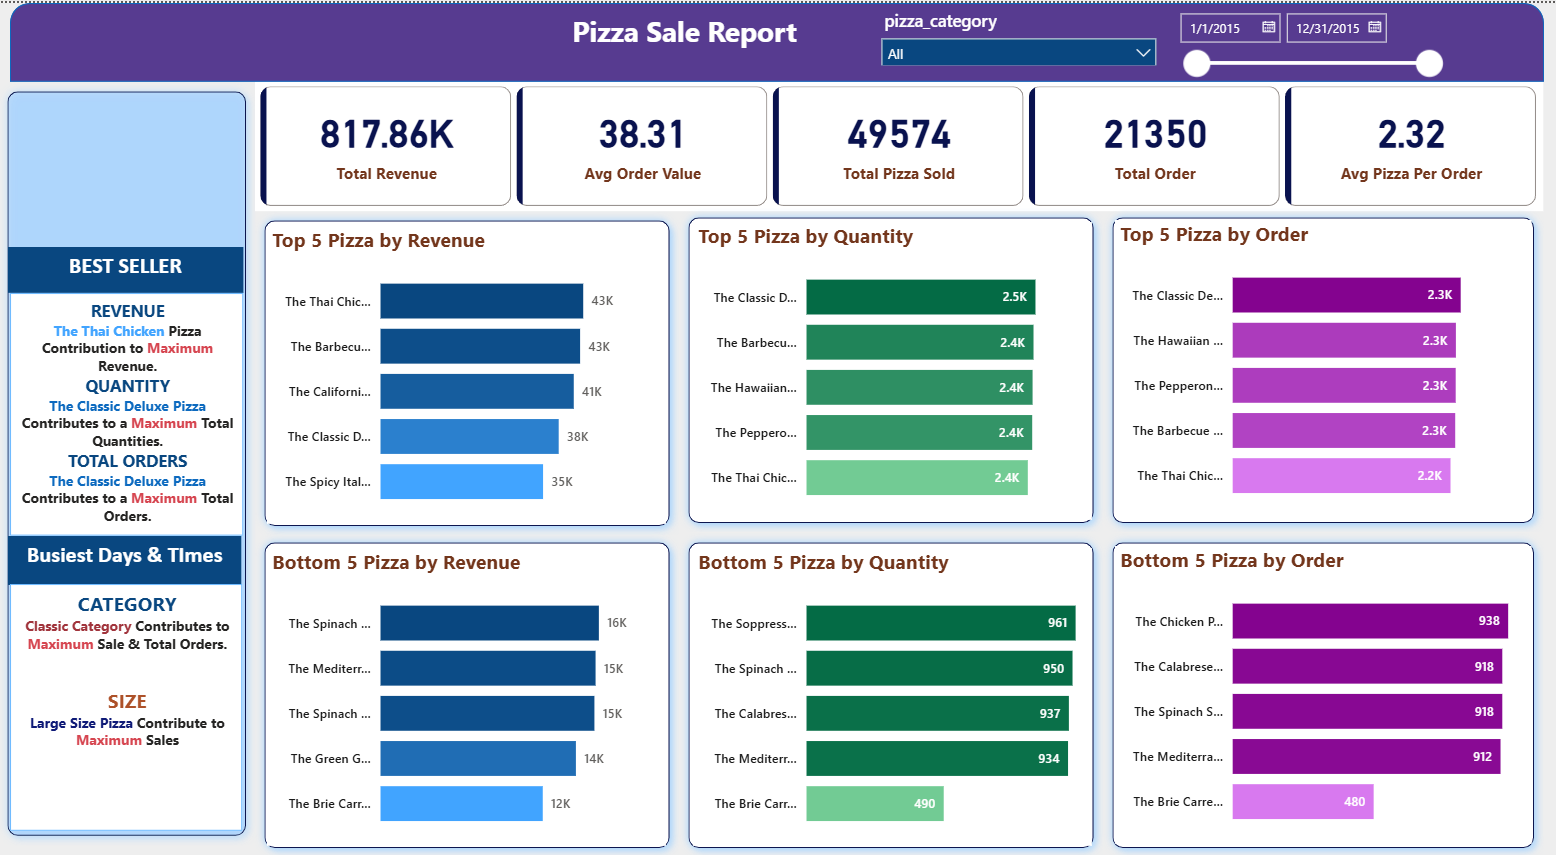

The dashboard page shown, as its layout file describes it:
{"tool":"powerbi","page":{"name":"Page 2","canvas":[1500,820],"ordinal":1},"visuals":[{"type":"shape","box":[0,75.7,247.1,732.9],"z":0},{"type":"cardVisual","fields":{"Data":["pizza_sales.Total Revenue","pizza_sales.Avg Order Value","pizza_sales.Total Pizza Sold","pizza_sales.Total Order","pizza_sales.Avg Pizza Per Order"]},"box":[246.5,75.2,1236.7,125.3],"z":1000},{"type":"textbox","box":[10,234.3,225.7,44.3],"z":2000},{"type":"shape","box":[11.4,0,1472.9,75.7],"z":3000},{"type":"textbox","box":[546.2,3.8,265,52.5],"z":4000},{"type":"shape","box":[247.1,200,407.1,311.4],"z":5000},{"type":"textbox","box":[11.5,278.5,223.8,233.1],"z":6000},{"type":"textbox","box":[10,511.4,224.3,47.1],"z":7000},{"type":"textbox","box":[11.7,558.3,223.3,236.7],"z":8000},{"type":"slicer","fields":{"Values":["pizza_sales.pizza_category"]},"box":[838.6,1.4,284.3,58.6],"z":9000},{"type":"slicer","fields":{"Values":["pizza_sales.order_date"]},"box":[1122.9,0,272.9,75.7],"z":10000},{"type":"shape","box":[654.3,197.1,407.1,311.4],"z":11000},{"type":"shape","box":[1061.4,197.1,422.9,311.4],"z":12000},{"type":"shape","box":[247.1,508.6,407.1,311.4],"z":13000},{"type":"shape","box":[1061.4,508.6,422.9,311.4],"z":14000},{"type":"shape","box":[654.3,508.6,407.1,311.4],"z":15000},{"type":"clusteredBarChart","title":"Top 5 Pizza by Revenue ","fields":{"Y":["pizza_sales.Total Revenue"],"Category":["pizza_sales.pizza_name"]},"box":[258.6,214.3,382.9,285.7],"z":16000},{"type":"clusteredBarChart","title":"Bottom 5 Pizza by Revenue ","fields":{"Y":["pizza_sales.Total Revenue"],"Category":["pizza_sales.pizza_name"]},"box":[258.6,522.9,382.9,285.7],"z":17000},{"type":"clusteredBarChart","title":"Top 5 Pizza by Quantity","fields":{"Category":["pizza_sales.pizza_name"],"Y":["pizza_sales.Total Pizza Sold"]},"box":[667.1,210,382.9,285.7],"z":18000},{"type":"clusteredBarChart","title":"Bottom 5 Pizza by Quantity","fields":{"Category":["pizza_sales.pizza_name"],"Y":["pizza_sales.Total Pizza Sold"]},"box":[667.1,522.9,382.9,285.7],"z":19000},{"type":"clusteredBarChart","title":"Top 5 Pizza by Order","fields":{"Category":["pizza_sales.pizza_name"],"Y":["pizza_sales.Total Order"]},"box":[1072.9,208.6,400,285.7],"z":20000},{"type":"clusteredBarChart","title":"Bottom 5 Pizza by Order","fields":{"Category":["pizza_sales.pizza_name"],"Y":["pizza_sales.Total Order"]},"box":[1072.9,521.4,400,285.7],"z":21000}]}

Visuals, with their boxes in screenshot pixels (x1, y1, x2, y2), scaled from the page's 1500x820 canvas onto the 1556x855 screenshot:
shape: region(0, 79, 256, 843)
cardVisual - pizza_sales.Total Revenue x pizza_sales.Avg Order Value: region(256, 78, 1539, 209)
textbox: region(10, 244, 244, 290)
shape: region(12, 0, 1540, 79)
textbox: region(567, 4, 841, 59)
shape: region(256, 209, 679, 533)
textbox: region(12, 290, 244, 533)
textbox: region(10, 533, 243, 582)
textbox: region(12, 582, 244, 829)
slicer - pizza_sales.pizza_category: region(870, 1, 1165, 63)
slicer - pizza_sales.order_date: region(1165, 0, 1448, 79)
shape: region(679, 206, 1101, 530)
shape: region(1101, 206, 1540, 530)
shape: region(256, 530, 679, 854)
shape: region(1101, 530, 1540, 854)
shape: region(679, 530, 1101, 854)
"Top 5 Pizza by Revenue " clusteredBarChart: region(268, 223, 665, 521)
"Bottom 5 Pizza by Revenue " clusteredBarChart: region(268, 545, 665, 843)
"Top 5 Pizza by Quantity" clusteredBarChart: region(692, 219, 1089, 517)
"Bottom 5 Pizza by Quantity" clusteredBarChart: region(692, 545, 1089, 843)
"Top 5 Pizza by Order" clusteredBarChart: region(1113, 218, 1528, 515)
"Bottom 5 Pizza by Order" clusteredBarChart: region(1113, 544, 1528, 842)
